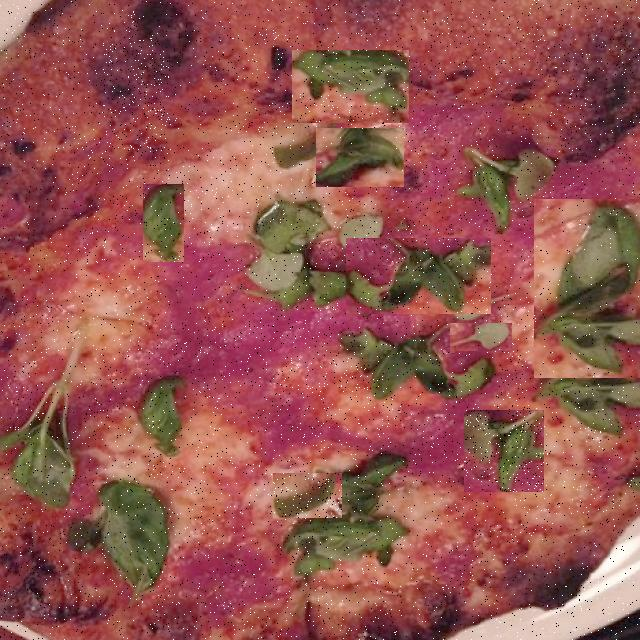Basil: (534, 199, 640, 378), (248, 321, 390, 429), (0, 133, 77, 295), (346, 238, 491, 314), (292, 50, 409, 123), (103, 44, 170, 154), (464, 410, 544, 492), (316, 128, 404, 187), (143, 184, 184, 262), (273, 473, 342, 518), (450, 323, 512, 351), (626, 145, 640, 167)
Pizza: (0, 0, 640, 640)
